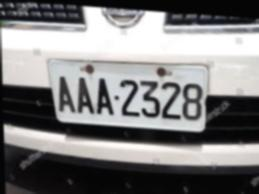License_Plate: (50, 65, 204, 124)
